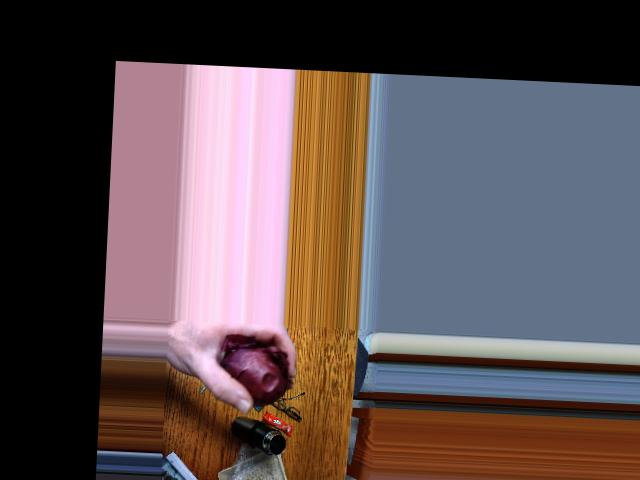onion: (218, 341, 288, 407)
